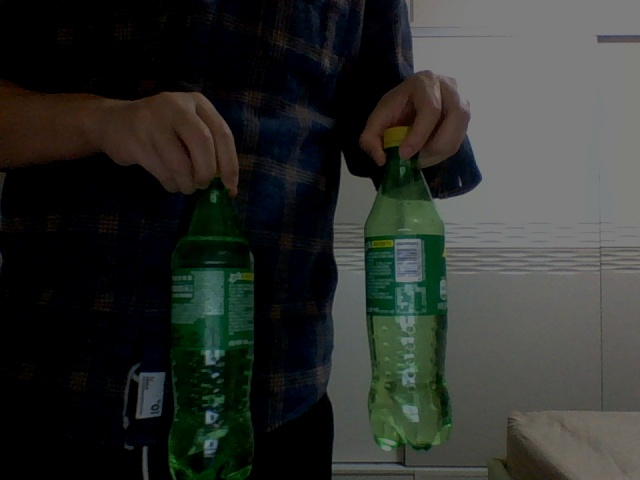Sprite: (363, 125, 452, 449), (168, 173, 254, 477)
